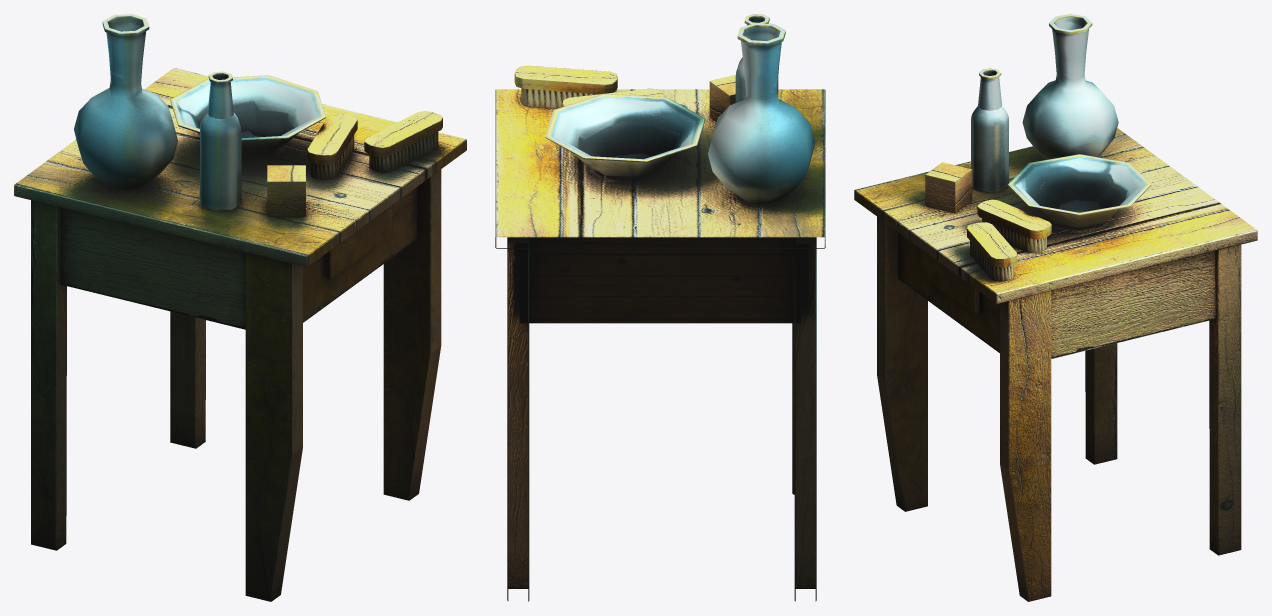
The model's file is mesa.obj.
The picture shows the model from 3 angles, left to right: view 1: azimuth 30°, elevation 25°; view 2: azimuth 150°, elevation 25°; view 3: azimuth 270°, elevation 25°; orthographic projection. The views are drawn at different scales.
Visible parts, largest first — view 1: pasted__polySurface1 pasted__mesa2 pasted__mesa3 mesa3, pasted__mesa2 pasted__mesa3 mesa3 pasted__polySurface8, pasted__mesa2 pasted__mesa3 mesa3 pasted__polySurface3, pasted__mesa2 pasted__mesa3 mesa3 pasted__polySurface4, pasted__mesa2 pasted__mesa3 mesa3 pasted__polySurface19, pasted__mesa2 pasted__mesa3 mesa3 pasted__polySurface15, pasted__mesa2 pasted__mesa3 mesa3 pasted__polySurface17, pasted__mesa2 pasted__mesa3 mesa3 pasted__polySurface16, pasted__mesa2 pasted__mesa3 mesa3 pasted__polySurface18, pasted__mesa2 pasted__mesa3 mesa3 pasted__polySurface6, pasted__mesa2 pasted__mesa3 mesa3 pasted__polySurface12, pasted__mesa2 pasted__mesa3 mesa3 pasted__polySurface2 (+4 smaller); view 2: pasted__polySurface1 pasted__mesa2 pasted__mesa3 mesa3, pasted__mesa2 pasted__mesa3 mesa3 pasted__polySurface7, pasted__mesa2 pasted__mesa3 mesa3 pasted__polySurface15, pasted__mesa2 pasted__mesa3 mesa3 pasted__polySurface17, pasted__mesa2 pasted__mesa3 mesa3 pasted__polySurface19, pasted__mesa2 pasted__mesa3 mesa3 pasted__polySurface18, pasted__mesa2 pasted__mesa3 mesa3 pasted__polySurface12, pasted__mesa2 pasted__mesa3 mesa3 pasted__polySurface2, pasted__mesa2 pasted__mesa3 mesa3 pasted__polySurface11, pasted__mesa2 pasted__mesa3 mesa3 pasted__polySurface16, pasted__mesa2 pasted__mesa3 mesa3 pasted__polySurface8, pasted__mesa2 pasted__mesa3 mesa3 pasted__polySurface14; view 3: pasted__polySurface1 pasted__mesa2 pasted__mesa3 mesa3, pasted__mesa2 pasted__mesa3 mesa3 pasted__polySurface3, pasted__mesa2 pasted__mesa3 mesa3 pasted__polySurface5, pasted__mesa2 pasted__mesa3 mesa3 pasted__polySurface8, pasted__mesa2 pasted__mesa3 mesa3 pasted__polySurface18, pasted__mesa2 pasted__mesa3 mesa3 pasted__polySurface15, pasted__mesa2 pasted__mesa3 mesa3 pasted__polySurface17, pasted__mesa2 pasted__mesa3 mesa3 pasted__polySurface16, pasted__mesa2 pasted__mesa3 mesa3 pasted__polySurface19, pasted__mesa2 pasted__mesa3 mesa3 pasted__polySurface6, pasted__mesa2 pasted__mesa3 mesa3 pasted__polySurface2, pasted__mesa2 pasted__mesa3 mesa3 pasted__polySurface14 (+4 smaller).
Part boxes in pixels (x1,y1,x2,y2): pasted__polySurface1 pasted__mesa2 pasted__mesa3 mesa3: [14, 68, 466, 267]; pasted__mesa2 pasted__mesa3 mesa3 pasted__polySurface8: [245, 252, 302, 601]; pasted__mesa2 pasted__mesa3 mesa3 pasted__polySurface3: [383, 169, 441, 500]; pasted__mesa2 pasted__mesa3 mesa3 pasted__polySurface4: [60, 207, 245, 329]; pasted__mesa2 pasted__mesa3 mesa3 pasted__polySurface19: [31, 200, 66, 550]; pasted__mesa2 pasted__mesa3 mesa3 pasted__polySurface15: [74, 14, 177, 189]; pasted__mesa2 pasted__mesa3 mesa3 pasted__polySurface17: [170, 75, 325, 157]; pasted__mesa2 pasted__mesa3 mesa3 pasted__polySurface16: [200, 71, 241, 210]; pasted__mesa2 pasted__mesa3 mesa3 pasted__polySurface18: [170, 311, 205, 448]; pasted__mesa2 pasted__mesa3 mesa3 pasted__polySurface6: [303, 187, 417, 322]; pasted__mesa2 pasted__mesa3 mesa3 pasted__polySurface12: [364, 111, 442, 157]; pasted__mesa2 pasted__mesa3 mesa3 pasted__polySurface2: [267, 165, 305, 216]; pasted__polySurface1 pasted__mesa2 pasted__mesa3 mesa3: [495, 89, 825, 248]; pasted__mesa2 pasted__mesa3 mesa3 pasted__polySurface7: [520, 237, 800, 323]; pasted__mesa2 pasted__mesa3 mesa3 pasted__polySurface15: [708, 23, 815, 204]; pasted__mesa2 pasted__mesa3 mesa3 pasted__polySurface17: [545, 93, 705, 178]; pasted__mesa2 pasted__mesa3 mesa3 pasted__polySurface19: [794, 237, 816, 601]; pasted__mesa2 pasted__mesa3 mesa3 pasted__polySurface18: [507, 237, 529, 601]; pasted__mesa2 pasted__mesa3 mesa3 pasted__polySurface12: [514, 65, 617, 94]; pasted__mesa2 pasted__mesa3 mesa3 pasted__polySurface2: [709, 75, 735, 121]; pasted__mesa2 pasted__mesa3 mesa3 pasted__polySurface11: [521, 88, 596, 108]; pasted__mesa2 pasted__mesa3 mesa3 pasted__polySurface16: [735, 14, 778, 102]; pasted__mesa2 pasted__mesa3 mesa3 pasted__polySurface8: [792, 323, 794, 494]; pasted__mesa2 pasted__mesa3 mesa3 pasted__polySurface14: [562, 88, 664, 106]; pasted__polySurface1 pasted__mesa2 pasted__mesa3 mesa3: [854, 128, 1257, 303]; pasted__mesa2 pasted__mesa3 mesa3 pasted__polySurface3: [1000, 291, 1051, 601]; pasted__mesa2 pasted__mesa3 mesa3 pasted__polySurface5: [1051, 251, 1215, 358]; pasted__mesa2 pasted__mesa3 mesa3 pasted__polySurface8: [877, 217, 927, 511]; pasted__mesa2 pasted__mesa3 mesa3 pasted__polySurface18: [1209, 244, 1241, 555]; pasted__mesa2 pasted__mesa3 mesa3 pasted__polySurface15: [1022, 14, 1118, 159]; pasted__mesa2 pasted__mesa3 mesa3 pasted__polySurface17: [1007, 154, 1151, 228]; pasted__mesa2 pasted__mesa3 mesa3 pasted__polySurface16: [971, 68, 1008, 192]; pasted__mesa2 pasted__mesa3 mesa3 pasted__polySurface19: [1085, 343, 1117, 464]; pasted__mesa2 pasted__mesa3 mesa3 pasted__polySurface6: [898, 232, 999, 352]; pasted__mesa2 pasted__mesa3 mesa3 pasted__polySurface2: [925, 162, 972, 212]; pasted__mesa2 pasted__mesa3 mesa3 pasted__polySurface14: [977, 199, 1051, 239].
Size of the model in its own units: 0.925 by 1.19 by 0.9386.
Materials: 1 (1 with a texture image).
